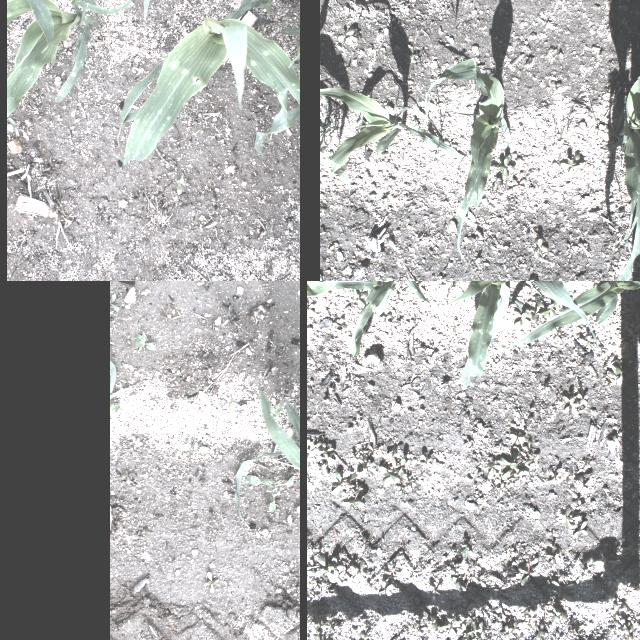crop: (112, 0, 300, 222), (6, 0, 149, 132), (443, 281, 608, 392), (425, 56, 511, 262), (320, 88, 470, 194), (233, 311, 300, 527), (221, 0, 300, 122), (500, 281, 640, 347), (324, 281, 442, 356), (604, 63, 640, 281), (110, 357, 150, 423), (306, 281, 338, 296)
weed: (243, 472, 294, 516), (500, 438, 532, 479), (454, 568, 488, 602), (602, 358, 634, 388), (197, 564, 220, 596), (330, 468, 358, 494), (558, 151, 584, 177), (133, 332, 159, 358), (518, 556, 540, 586), (492, 155, 516, 181), (550, 578, 576, 602), (341, 484, 365, 510), (314, 554, 336, 582), (592, 554, 622, 572), (381, 466, 404, 488), (178, 438, 208, 454), (123, 431, 149, 449), (438, 614, 459, 636), (376, 463, 400, 482), (182, 388, 210, 404), (113, 466, 135, 486), (537, 298, 559, 318), (390, 457, 410, 478), (620, 533, 640, 554), (220, 393, 242, 412), (625, 299, 640, 326), (560, 394, 580, 414), (347, 559, 365, 581), (572, 518, 590, 540), (350, 287, 368, 309), (546, 538, 560, 566), (356, 448, 370, 476), (486, 454, 502, 478), (574, 473, 594, 492), (110, 288, 124, 314), (455, 600, 475, 618), (512, 310, 530, 330), (533, 236, 549, 258), (410, 596, 426, 618), (558, 503, 572, 527), (475, 620, 493, 638), (519, 596, 537, 614), (609, 602, 627, 620), (274, 338, 294, 354), (311, 604, 327, 624), (551, 606, 567, 626), (269, 394, 283, 416), (328, 555, 342, 577), (535, 298, 549, 320), (126, 526, 144, 542), (454, 612, 470, 630), (613, 616, 631, 632), (316, 442, 334, 458), (384, 446, 400, 464), (508, 470, 526, 486), (524, 305, 540, 323), (533, 621, 548, 640), (308, 438, 322, 458), (549, 323, 563, 343), (400, 376, 420, 390), (500, 623, 516, 639), (546, 466, 562, 482), (376, 312, 392, 328), (337, 28, 358, 40), (443, 598, 457, 616), (378, 579, 392, 597), (508, 430, 526, 444), (579, 334, 597, 348), (174, 177, 186, 196), (337, 564, 351, 580), (428, 580, 442, 596), (317, 454, 331, 470), (400, 474, 416, 488), (575, 391, 589, 407), (461, 542, 472, 562), (382, 566, 400, 578), (320, 126, 334, 140), (418, 452, 432, 466), (512, 178, 528, 190), (172, 360, 184, 376), (306, 590, 318, 606), (306, 559, 318, 575), (412, 622, 428, 634), (466, 623, 482, 635), (506, 621, 522, 633), (570, 499, 586, 511), (330, 317, 346, 329), (497, 604, 507, 622), (469, 557, 481, 571), (540, 578, 552, 592), (394, 481, 406, 495), (512, 444, 526, 456), (446, 287, 458, 301), (306, 570, 326, 578), (460, 614, 476, 624), (624, 624, 634, 640), (496, 480, 506, 496), (524, 454, 540, 464), (586, 281, 602, 291), (348, 451, 360, 463), (359, 536, 369, 550), (367, 444, 377, 458), (581, 458, 591, 472), (550, 81, 562, 92), (628, 581, 640, 592), (503, 477, 515, 488), (446, 611, 462, 619), (359, 628, 369, 640), (570, 623, 580, 635), (492, 471, 502, 483), (306, 302, 316, 314), (416, 281, 426, 293), (494, 606, 508, 614), (450, 573, 464, 581), (451, 318, 459, 332), (552, 629, 562, 640), (514, 281, 526, 290), (194, 281, 211, 287), (319, 620, 329, 630), (390, 560, 400, 570), (520, 549, 530, 559), (516, 540, 526, 550), (510, 631, 521, 640), (633, 568, 640, 582), (326, 242, 334, 254), (565, 514, 581, 520), (603, 86, 613, 95), (398, 2, 408, 10), (377, 197, 387, 205), (310, 578, 320, 586), (429, 620, 437, 630), (440, 281, 456, 286), (410, 54, 418, 62), (310, 582, 318, 590), (415, 556, 423, 564), (600, 407, 608, 415), (544, 380, 550, 390), (470, 635, 481, 640), (525, 45, 531, 53), (313, 631, 318, 640), (56, 112, 60, 121), (436, 26, 442, 32), (466, 630, 472, 636), (452, 281, 459, 283)
